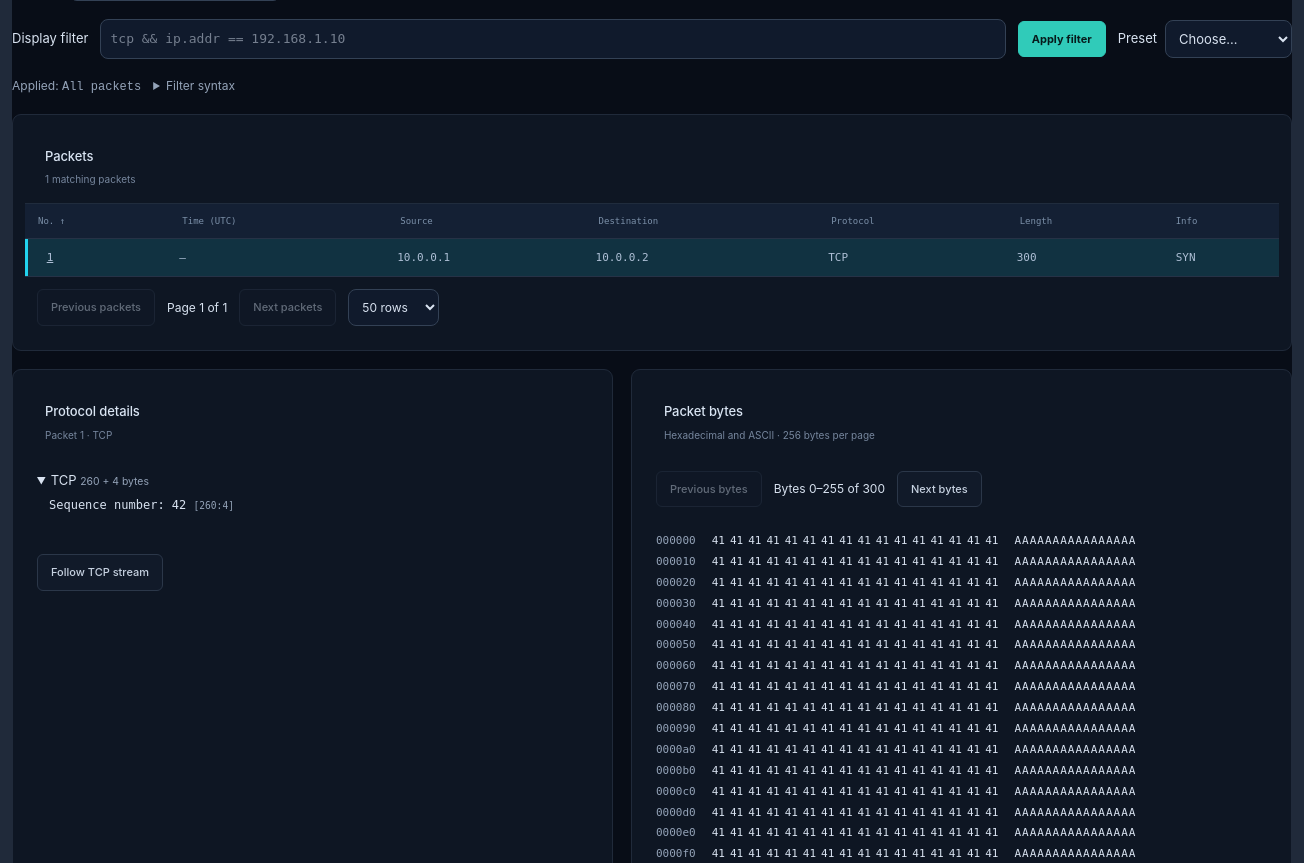
Scenario: refreshes on packet updates and follows a TCP conversation
Step 1. Click the button "Follow TCP stream" → coordinates (100, 572), box [37,554,163,590]
(page scrolled)
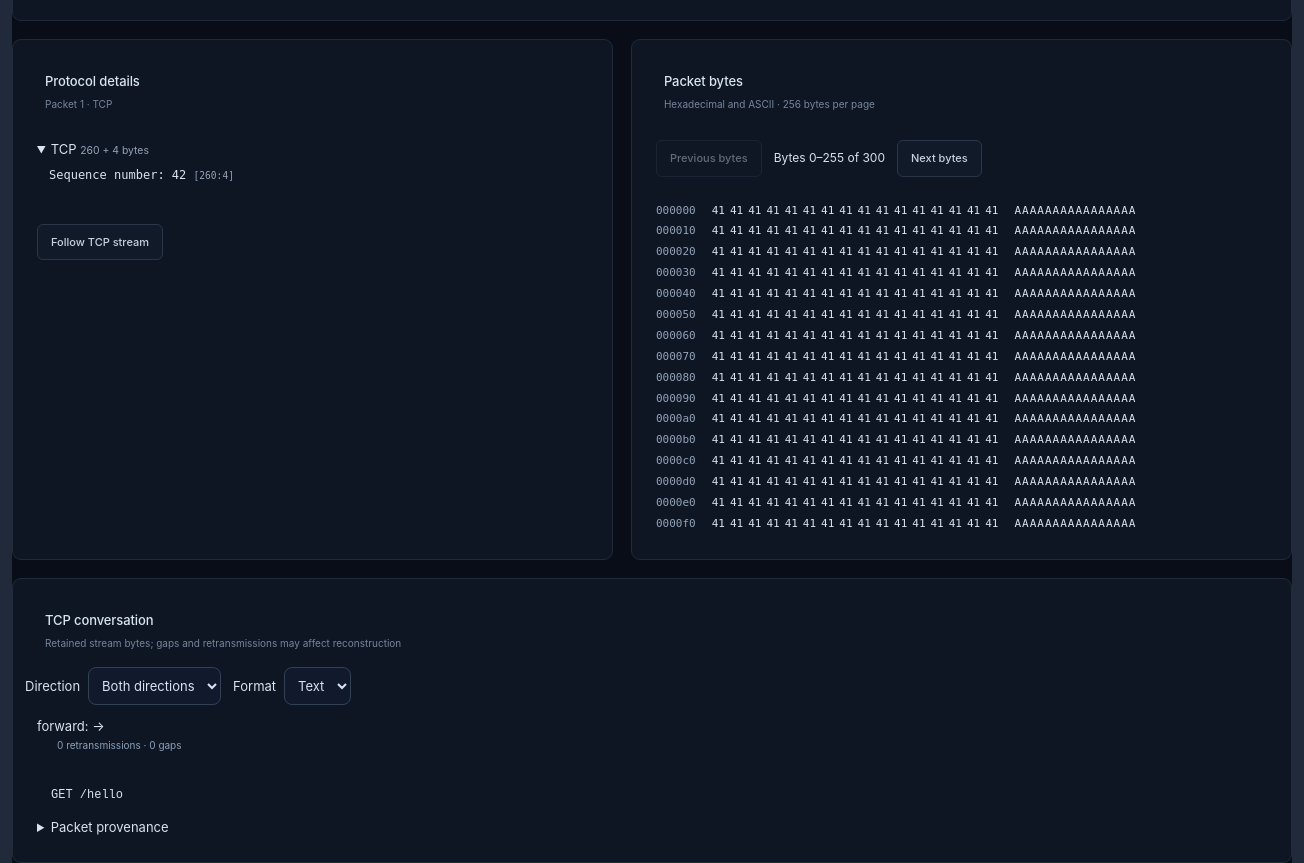
Now the text "GET /hello" is shown, box [51,788,123,802]
